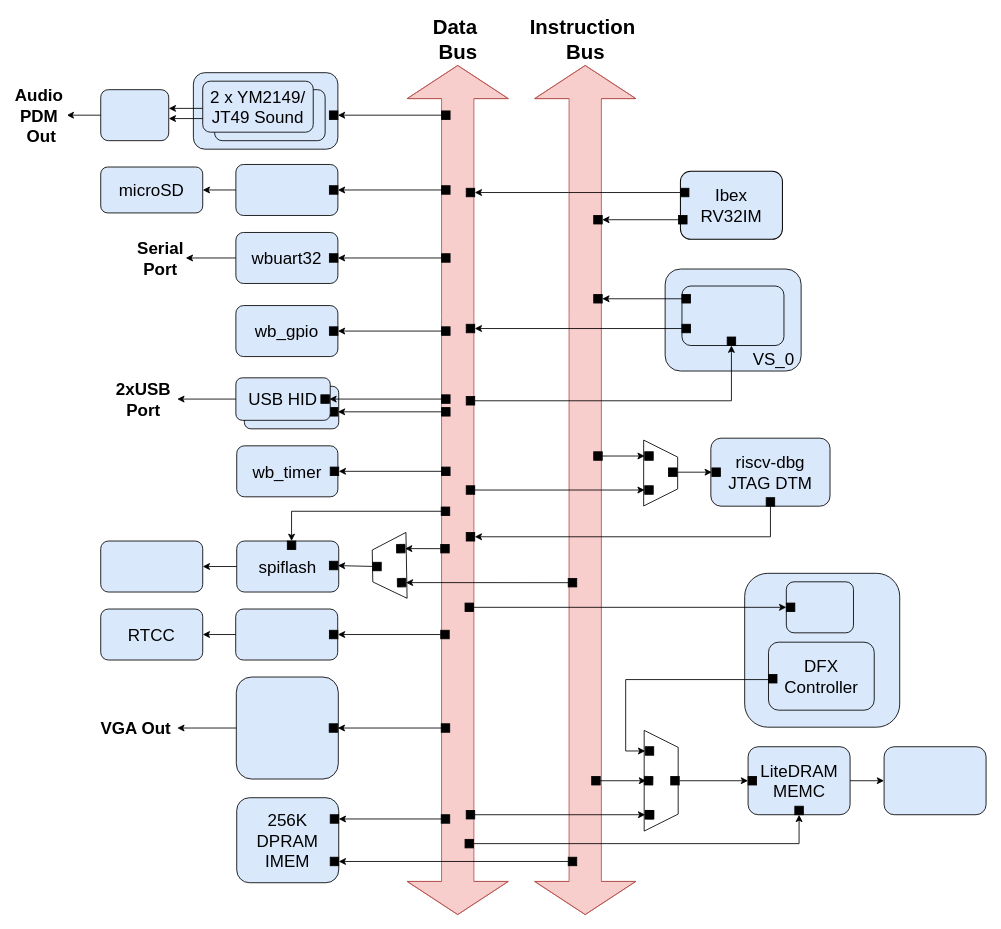
The diagram is 1001 pixels wide and 929 high, and some of its shapes have lost their labels. Here are the shapes that lost their labels. From the top down, the centre of each, then its label:
At [134,115]: "Audio DAC".
At [286,189]: "sdspi".
At [732,315]: "vs0".
At [151,566]: "16MB Flash".
At [819,607]: "ICAP".
At [286,634]: "wb_i2c".
At [286,727]: "VERA Graphics 128KB VRAM".
At [934,780]: "256MB DDR3".
